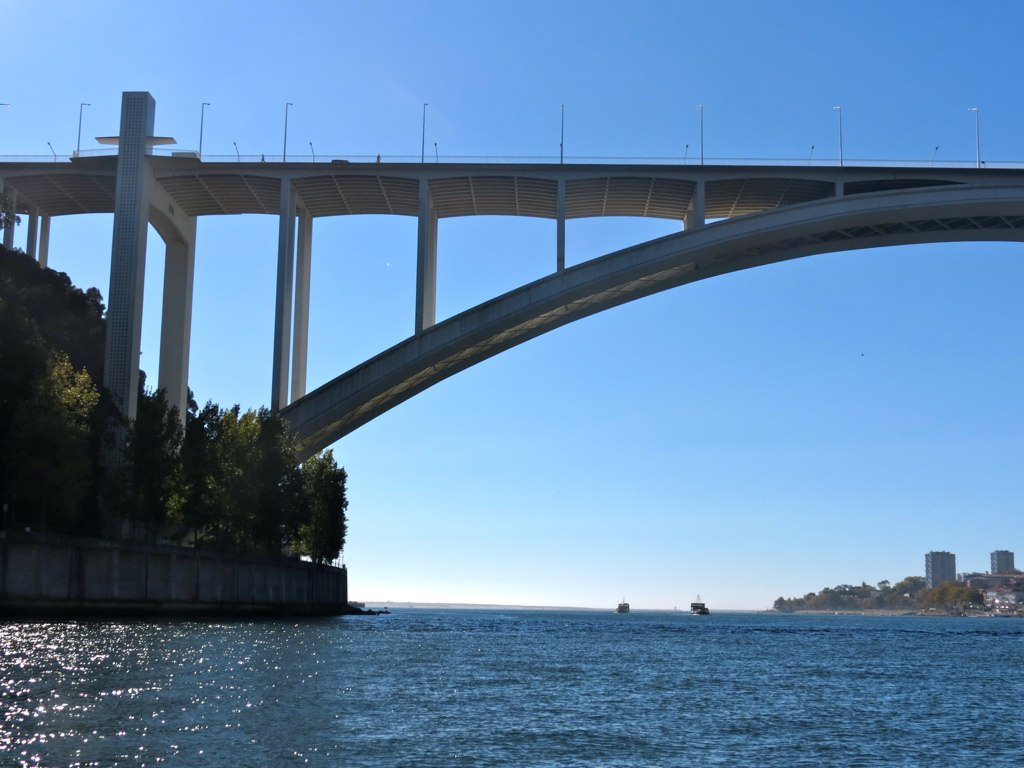arrabida: (0, 89, 1023, 479)
